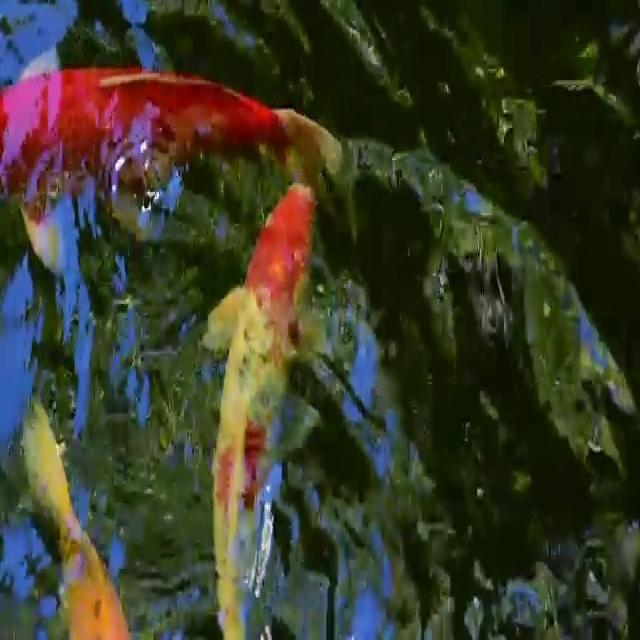fish: (0, 51, 375, 203), (204, 158, 318, 640), (19, 394, 132, 640)
